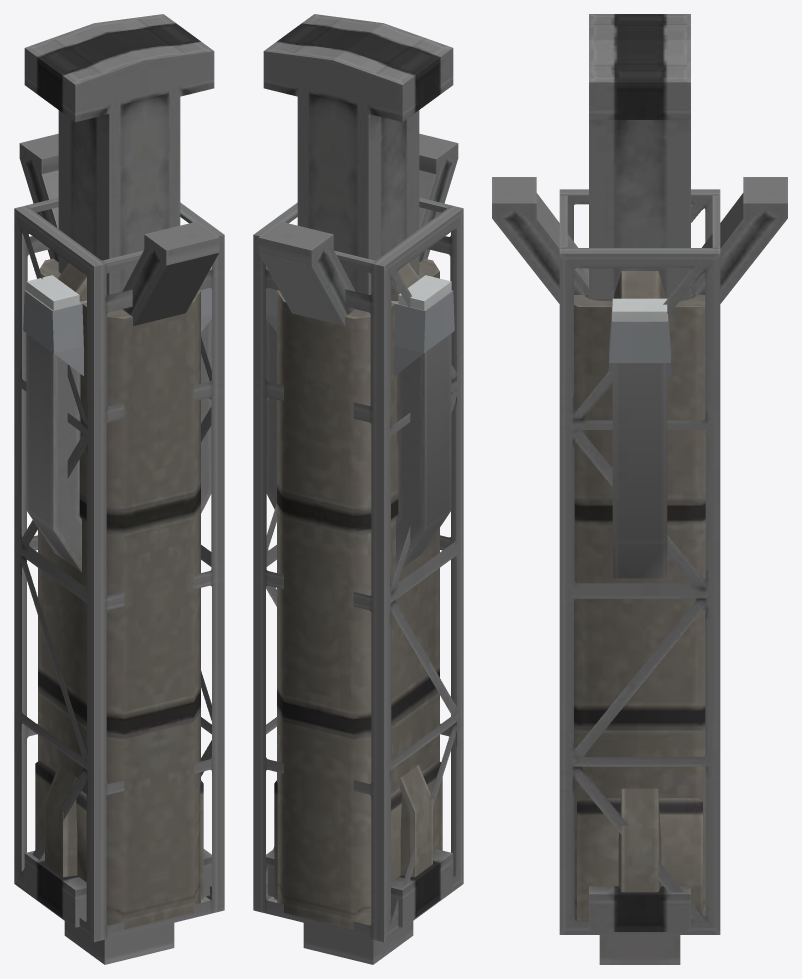
File: Part - Kit Columns-DCckUvFY.glb
The picture shows the model from 3 angles, left to right: view 1: azimuth 30°, elevation 25°; view 2: azimuth 150°, elevation 25°; view 3: azimuth 270°, elevation 25°; orthographic projection.
Parts seen in each view (by area): view 1: Column_07, Column_07.006, Column_07.008, Column_07.001, Column_07.007, Column_07.003, Column_07.002, Column_07.004; view 2: Column_07, Column_07.006, Column_07.008, Column_07.001, Column_07.007, Column_07.003, Column_07.002, Column_07.004; view 3: Column_07, Column_07.006, Column_07.008, Column_07.007, Column_07.001, Column_07.004, Column_07.003, Column_07.002.
Boxes of the visible parts, x1,y1,x2,y2 form: Column_07: (38,258,200,929); Column_07.006: (14,197,224,942); Column_07.008: (24,14,214,927); Column_07.001: (26,266,211,572); Column_07.007: (19,133,219,964); Column_07.003: (45,263,86,877); Column_07.002: (23,288,211,375); Column_07.004: (35,760,203,899); Column_07: (277,258,439,929); Column_07.006: (253,197,463,942); Column_07.008: (263,14,453,927); Column_07.001: (266,266,451,569); Column_07.007: (258,133,458,964); Column_07.003: (391,263,432,877); Column_07.002: (266,288,454,375); Column_07.004: (274,760,442,899); Column_07: (574,295,705,920); Column_07.006: (559,189,720,934); Column_07.008: (589,14,690,931); Column_07.007: (492,177,787,964); Column_07.001: (612,298,667,578); Column_07.004: (577,798,702,920); Column_07.003: (614,271,665,892); Column_07.002: (608,307,671,378).
Bounding box in the file's own units: 0.2771 × 1.47 × 0.4355.
Materials: 2 (2 with a texture image).
